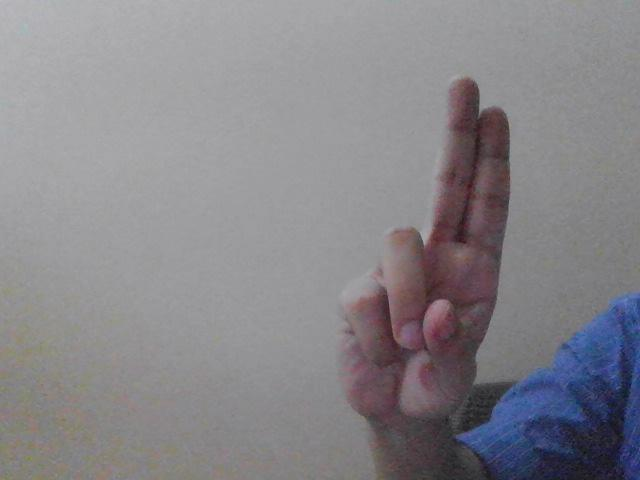U: (320, 70, 527, 435)
